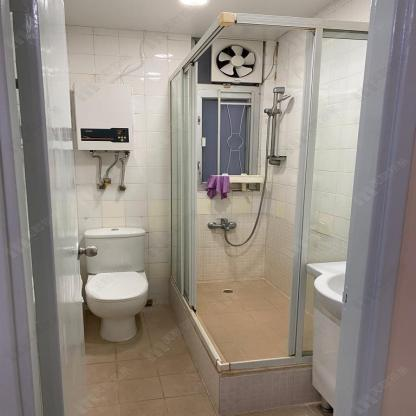Exhaust Fan: (210, 37, 269, 85)
Toilet: (82, 227, 151, 345)
Toilet Sink: (302, 258, 348, 323)
Water Cubicle: (167, 12, 377, 378)
Water Heater: (73, 81, 134, 154)
